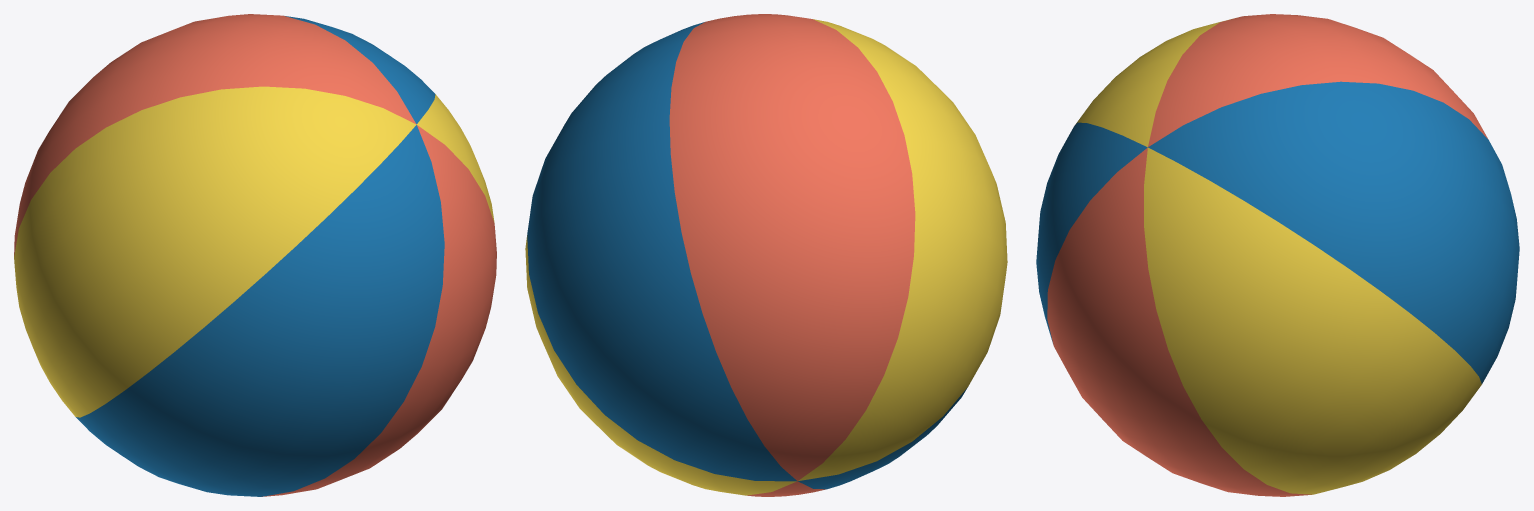
The model's file is wanjuqiu.FBX.
3 renders of one model, left to right at view 1: azimuth 30°, elevation 25°; view 2: azimuth 150°, elevation 25°; view 3: azimuth 270°, elevation 25°, orthographic.
Parts seen in each view (by area): view 1: 玩具球; view 2: 玩具球; view 3: 玩具球.
Part boxes in pixels (box(x1,y1,x2,y2)): 玩具球: box(14, 14, 496, 496); 玩具球: box(525, 14, 1007, 496); 玩具球: box(1036, 14, 1519, 496).
Bounding box in the file's own units: 67.29 × 67.12 × 67.31.
